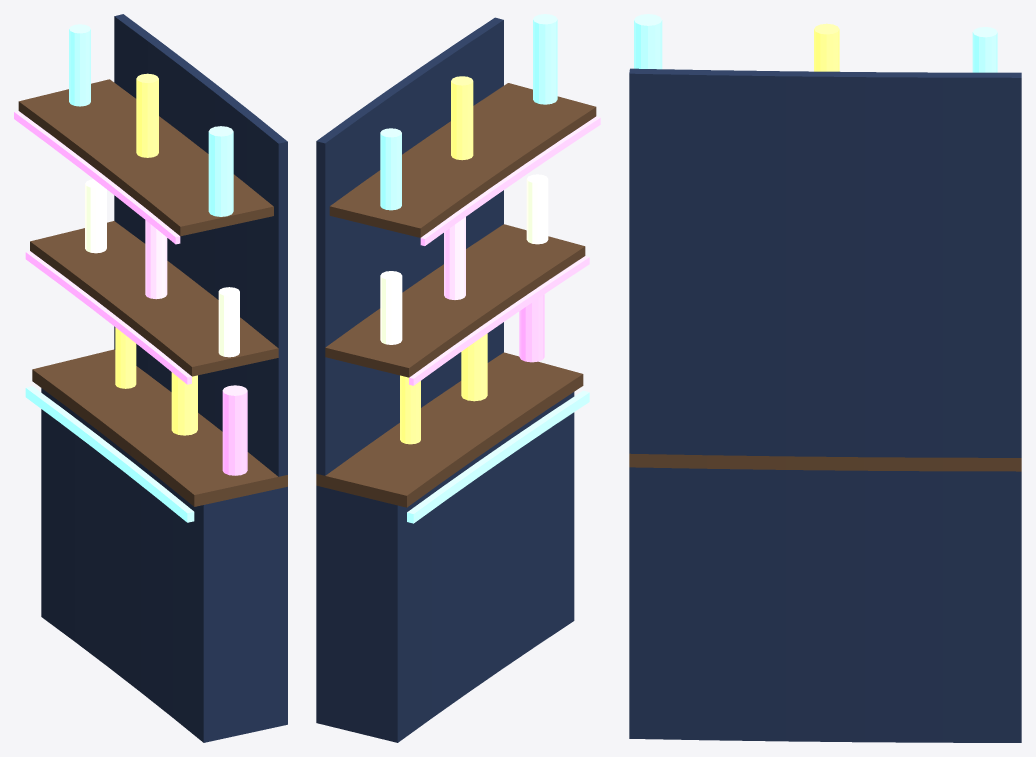
File: space_bar_leafl.glb
3 renders of one model, left to right at view 1: azimuth 30°, elevation 25°; view 2: azimuth 150°, elevation 25°; view 3: azimuth 270°, elevation 25°, orthographic. The views are drawn at different scales.
Visible parts, largest first — view 1: LeafL_Cabinet, LeafL_BackPanel, LeafL_Shelf1, LeafL_CabinetTop, LeafL_Shelf0, LeafL_CabinetNeon, LeafL_Bottle2_-0.047, LeafL_Bottle0_-0.047, LeafL_ShelfGlow0, LeafL_ShelfGlow1, LeafL_Bottle2_-0.025, LeafL_Bottle2_-0.005 (+5 smaller); view 2: LeafL_Cabinet, LeafL_BackPanel, LeafL_CabinetTop, LeafL_Shelf1, LeafL_Shelf0, LeafL_CabinetNeon, LeafL_Bottle2_-0.047, LeafL_ShelfGlow0, LeafL_ShelfGlow1, LeafL_Bottle2_-0.025, LeafL_Bottle2_-0.005, LeafL_Bottle1_-0.008 (+5 smaller); view 3: LeafL_BackPanel, LeafL_Cabinet, LeafL_CabinetTop, LeafL_Bottle2_-0.047, LeafL_Bottle2_-0.025, LeafL_Bottle2_-0.005.
Part boxes in pixels (x1,y1,x2,y2): LeafL_Cabinet: (41,388,287,742); LeafL_BackPanel: (114,14,287,476); LeafL_Shelf1: (18,79,273,236); LeafL_CabinetTop: (32,349,287,506); LeafL_Shelf0: (30,221,278,376); LeafL_CabinetNeon: (25,386,194,522); LeafL_Bottle2_-0.047: (208,126,233,216); LeafL_Bottle0_-0.047: (222,385,247,475); LeafL_ShelfGlow0: (25,251,191,384); LeafL_ShelfGlow1: (14,111,180,244); LeafL_Bottle2_-0.025: (136,73,158,157); LeafL_Bottle2_-0.005: (69,24,90,106); LeafL_Cabinet: (316,392,574,742); LeafL_BackPanel: (316,17,503,475); LeafL_CabinetTop: (316,352,583,507); LeafL_Shelf1: (329,83,596,237); LeafL_Shelf0: (325,224,585,377); LeafL_CabinetNeon: (407,390,589,523); LeafL_Bottle2_-0.047: (533,14,557,104); LeafL_ShelfGlow0: (409,256,589,385); LeafL_ShelfGlow1: (420,116,600,245); LeafL_Bottle2_-0.025: (451,76,473,160); LeafL_Bottle2_-0.005: (380,128,401,210); LeafL_Bottle1_-0.008: (380,271,402,344); LeafL_BackPanel: (629,68,1021,457); LeafL_Cabinet: (629,467,1021,742); LeafL_CabinetTop: (629,453,1021,471); LeafL_Bottle2_-0.047: (634,14,662,69); LeafL_Bottle2_-0.025: (814,23,839,71); LeafL_Bottle2_-0.005: (972,27,997,72).
Size of the model in its own units: 0.5121 by 2.53 by 1.31.
